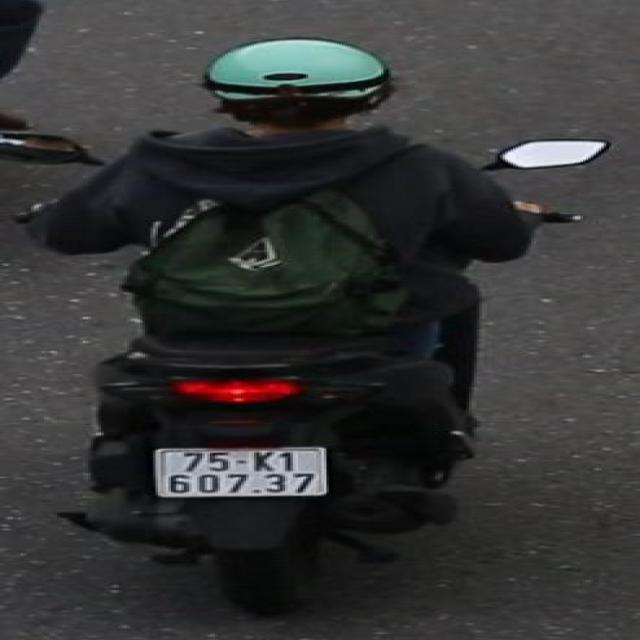LP: (145, 443, 334, 505)
helmet: (194, 33, 404, 134)
